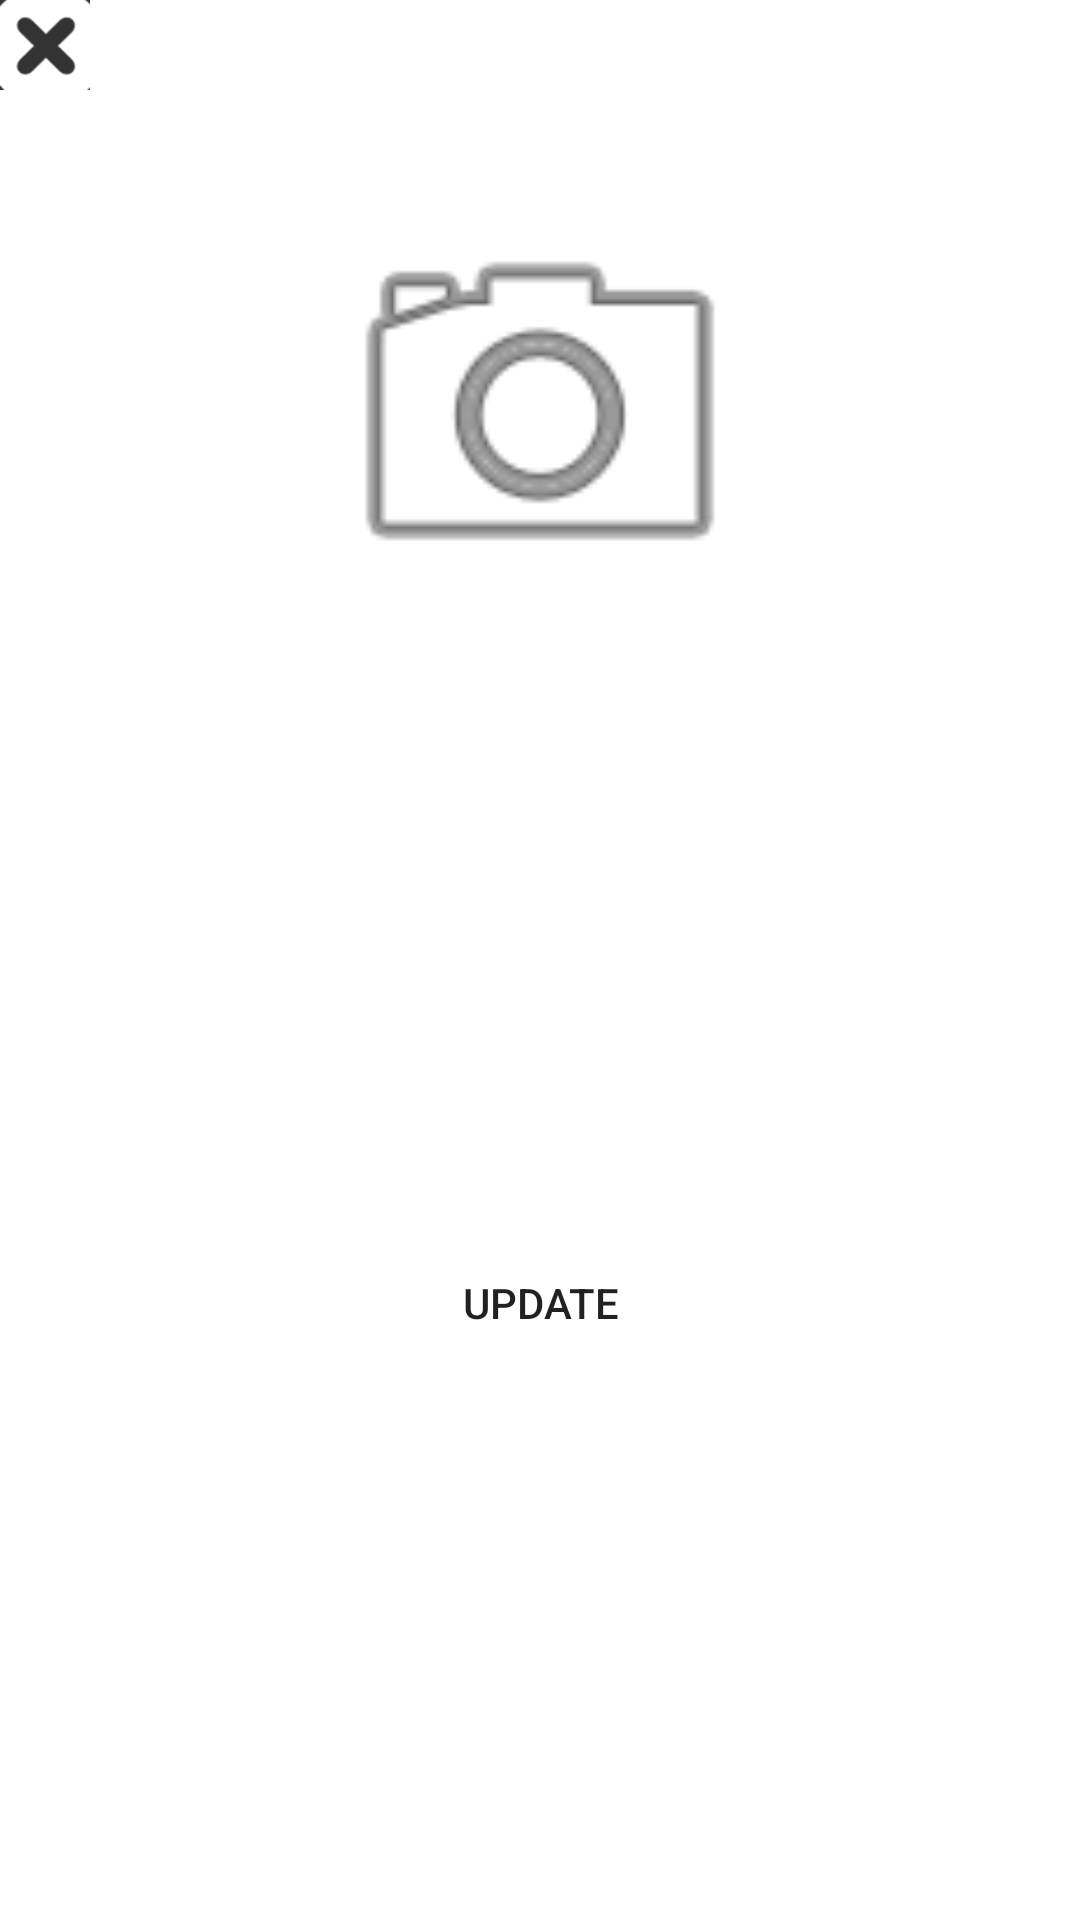

Locate icon controls on the screen. Image size 1080x1920, boxes as (x1, y1, x2, y2).
camera: (366, 262, 714, 540)
delete: (0, 0, 90, 90)
